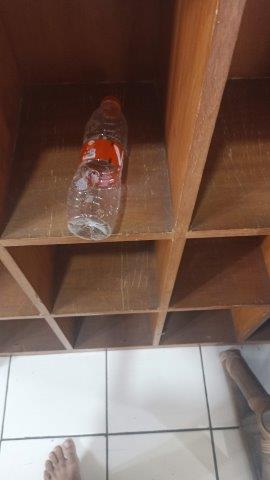botolplastik: (69, 98, 130, 245)
